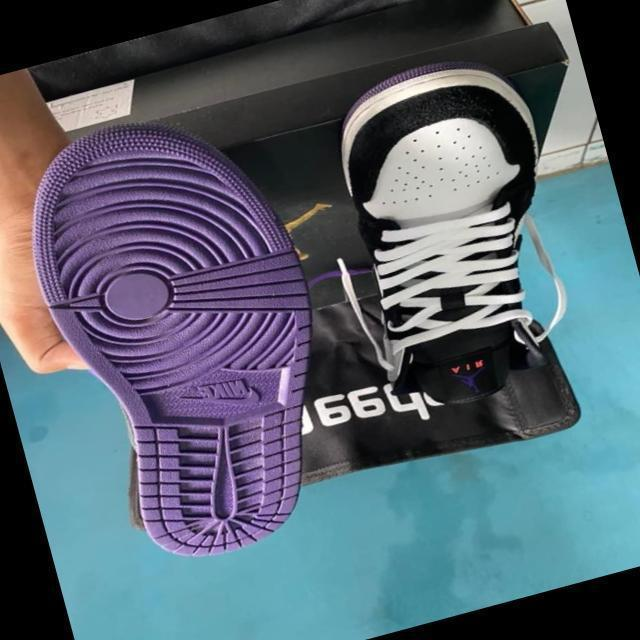nike fake jordan 1: (304, 38, 598, 422)
